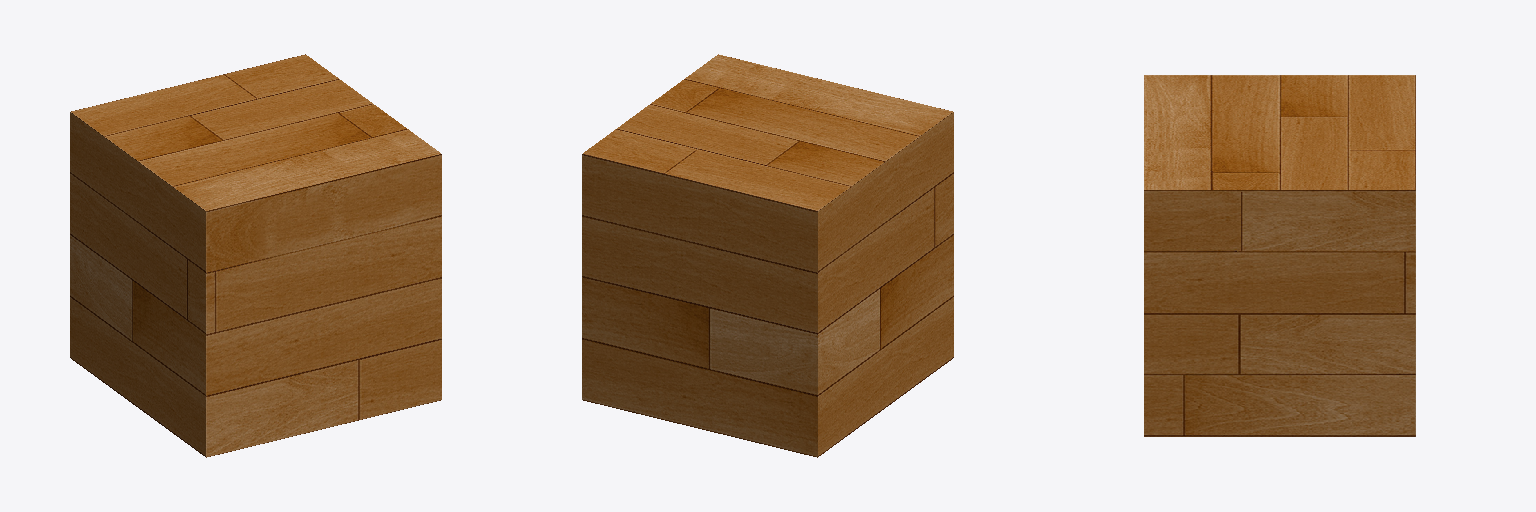
3 renders of one model, left to right at view 1: azimuth 30°, elevation 25°; view 2: azimuth 150°, elevation 25°; view 3: azimuth 270°, elevation 25°, orthographic.
Visible parts, largest first — view 1: Cube; view 2: Cube; view 3: Cube.
Boxes of the visible parts, box(x1,y1,x2,y2) form: Cube: box(70, 54, 441, 457); Cube: box(582, 54, 953, 457); Cube: box(1144, 75, 1415, 436).
Size of the model in its own units: 2 by 2 by 2.
Materials: 1 (1 with a texture image).